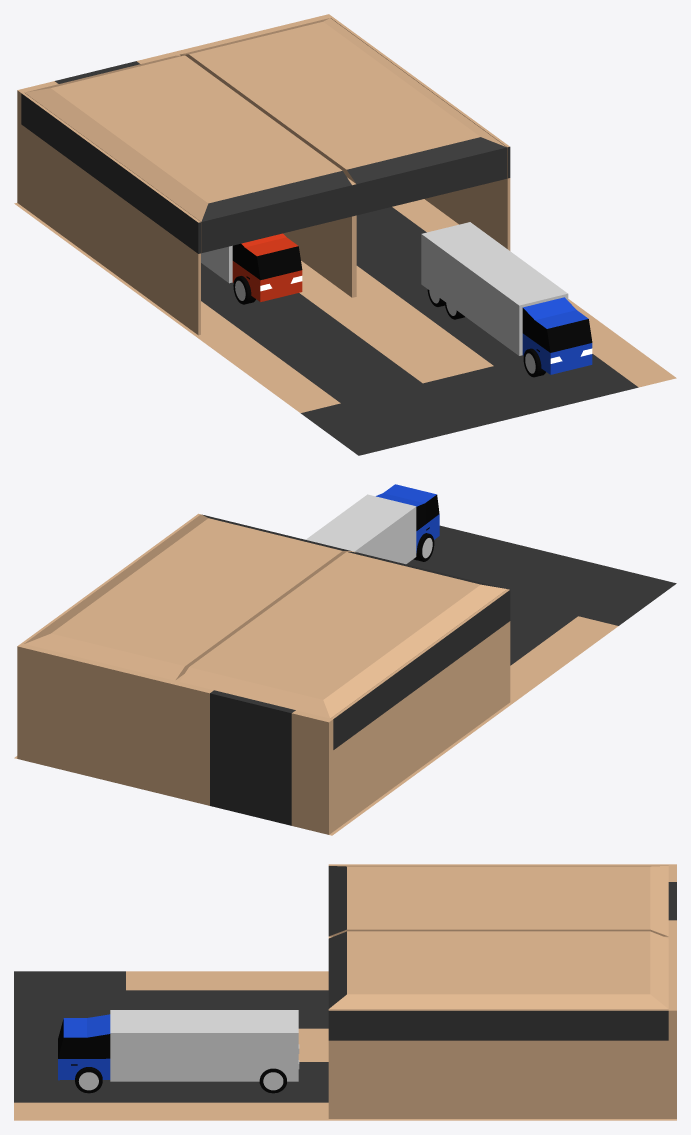
File: big_truck_and_animation.glb
3 renders of one model, top to bottom at view 1: azimuth 30°, elevation 25°; view 2: azimuth 150°, elevation 25°; view 3: azimuth 270°, elevation 25°, orthographic. The views are drawn at different scales.
Visible parts, largest first — view 1: Plane_0, Cylinder.001_1, Cylinder.003_2; view 2: Plane_0, Cylinder.001_1; view 3: Plane_0, Cylinder.001_1.
Part boxes in pixels (x1,y1,x2,y2): Plane_0: [14, 14, 676, 455]; Cylinder.001_1: [421, 222, 592, 377]; Cylinder.003_2: [201, 233, 302, 304]; Plane_0: [14, 513, 676, 835]; Cylinder.001_1: [306, 484, 439, 564]; Plane_0: [14, 864, 676, 1120]; Cylinder.001_1: [58, 1010, 299, 1093].
Bounding box in the file's own units: 20.2 × 7.32 × 37.91.
